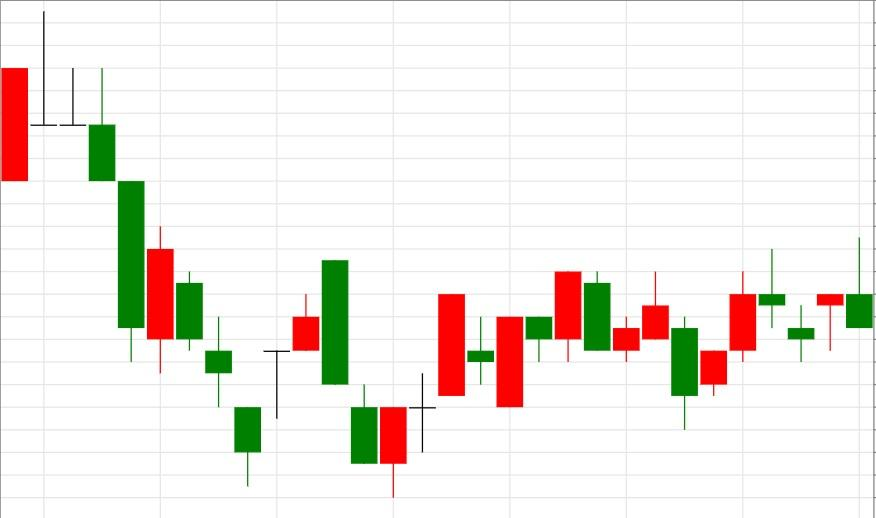bearish_engulfing_fall: (234, 259, 350, 487)
